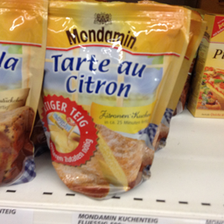cake: (34, 1, 189, 199), (1, 2, 53, 186)
